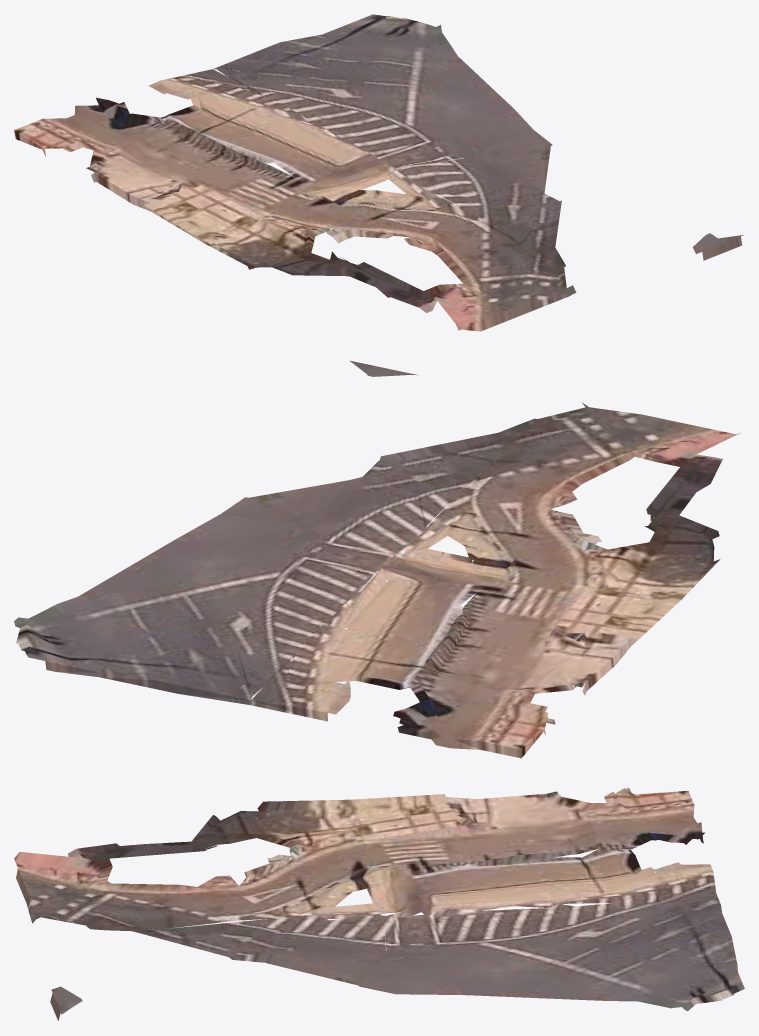
3 renders of one model, top to bottom at view 1: azimuth 30°, elevation 25°; view 2: azimuth 150°, elevation 25°; view 3: azimuth 270°, elevation 25°, orthographic. The views are drawn at different scales.
Visible parts, largest first — view 1: Mesh_0; view 2: Mesh_0; view 3: Mesh_0.
Boxes of the visible parts, bbox=[...] form: Mesh_0: bbox=[14, 14, 743, 331]; Mesh_0: bbox=[14, 360, 740, 758]; Mesh_0: bbox=[14, 787, 744, 1020].
Bounding box in the file's own units: 29.96 × 1.05 × 40.49.
1 material, 1 textured.
